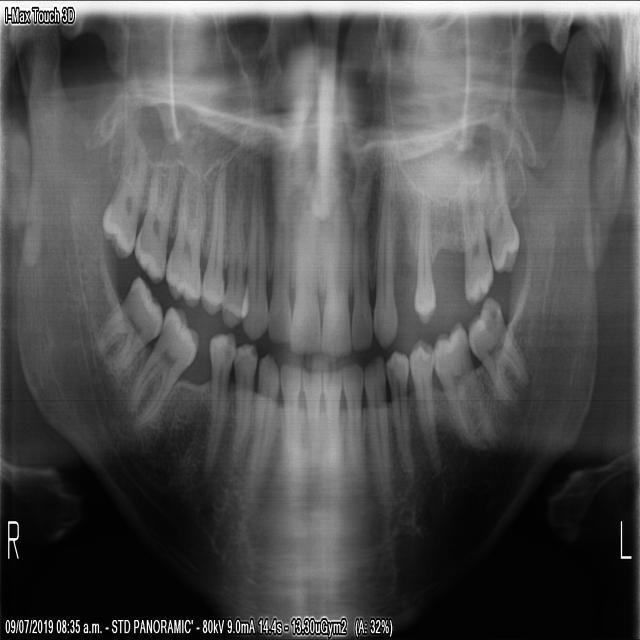LCD: (364, 353, 392, 509)
LCU: (372, 140, 398, 353)
LID: (343, 359, 364, 488), (322, 367, 342, 491)
LIU: (320, 175, 351, 357), (350, 175, 373, 353)
LMD: (433, 314, 501, 454), (467, 292, 531, 411)
LMU: (455, 162, 493, 310), (481, 137, 519, 276)
LPMD: (408, 333, 442, 479), (384, 345, 417, 486)
LPMU: (411, 184, 435, 328)
RCD: (247, 348, 277, 502)
RCU: (239, 160, 267, 343)
RID: (277, 361, 301, 487), (300, 364, 322, 482)
RIU: (286, 169, 321, 356), (268, 161, 290, 344)
RMD: (125, 302, 198, 431), (94, 274, 163, 376)
RMU: (98, 128, 147, 264), (162, 159, 204, 311), (131, 154, 178, 284)
RPMD: (201, 332, 235, 478), (228, 343, 257, 480)
RPMU: (199, 152, 227, 317), (219, 158, 243, 329)
